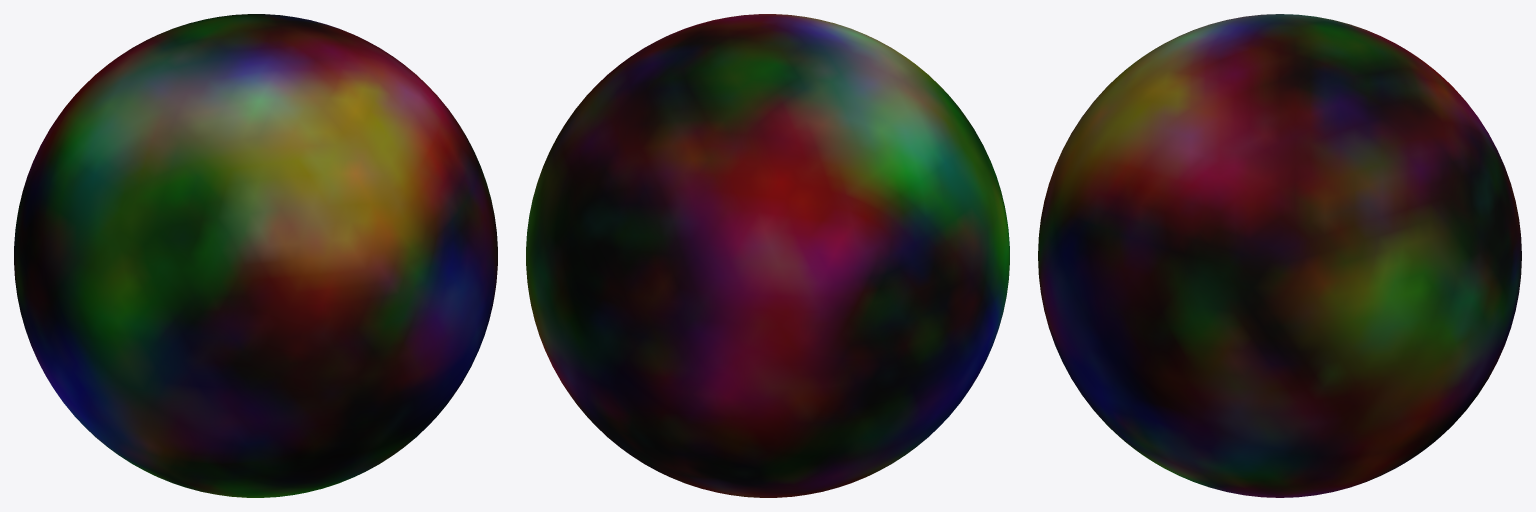
The model's file is FieldSpawnPoints_003.fbx.
The picture shows the model from 3 angles, left to right: view 1: azimuth 30°, elevation 25°; view 2: azimuth 150°, elevation 25°; view 3: azimuth 270°, elevation 25°; orthographic projection.
Visible parts, largest first — view 1: PlanetMesh_3_Items; view 2: PlanetMesh_3_Items; view 3: PlanetMesh_3_Items.
Boxes of the visible parts, <box> form: PlanetMesh_3_Items: <box>14,14,497,497</box>; PlanetMesh_3_Items: <box>526,14,1009,497</box>; PlanetMesh_3_Items: <box>1038,14,1521,497</box>.
Bounding box in the file's own units: 9996 × 9995 × 10000.
